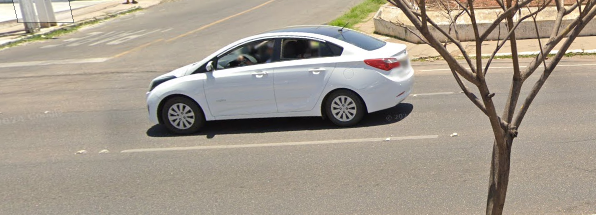car: (141, 20, 422, 145)
